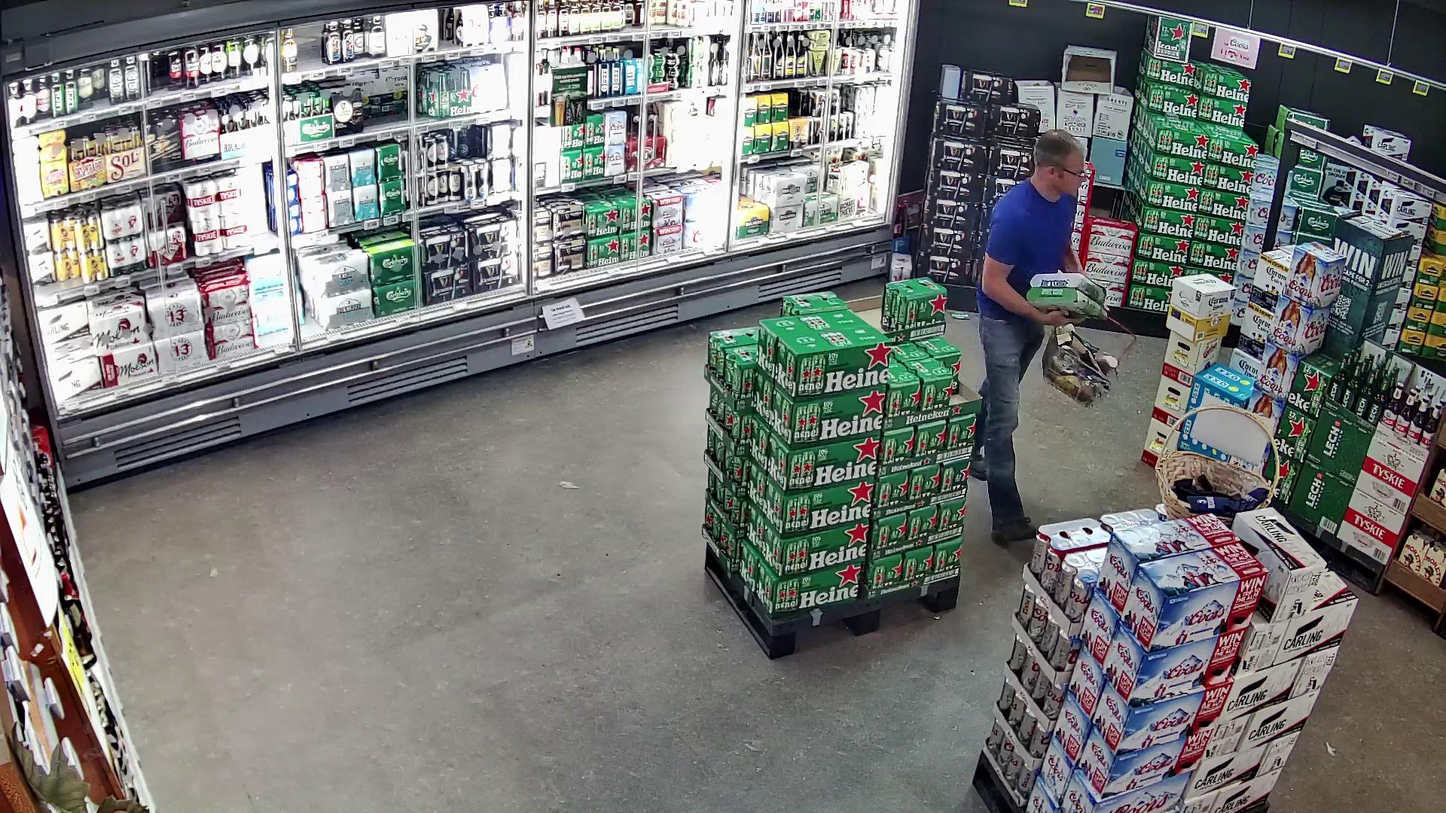carrying-item: (1026, 272, 1109, 324)
filled-basket: (1041, 309, 1138, 409)
person: (976, 126, 1088, 543)
person-with-basket-trolly-and-carrying-item: (976, 127, 1140, 540)
